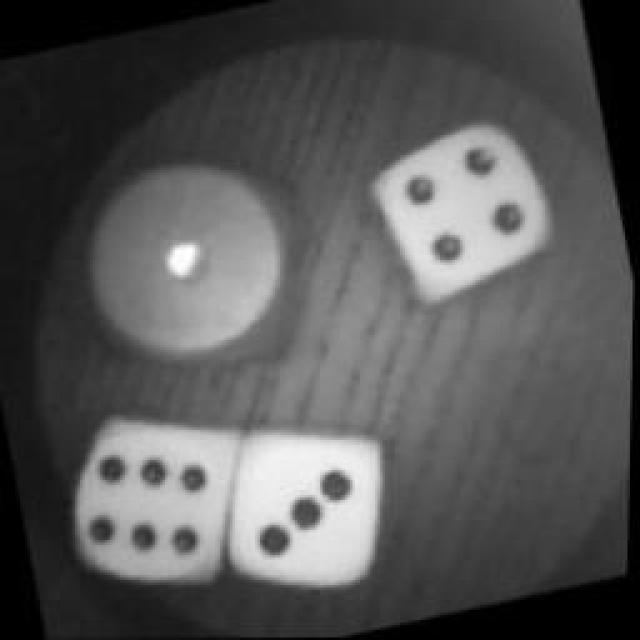dice_1: (60, 134, 332, 404)
dice_3: (216, 410, 409, 615)
dice_4: (355, 96, 575, 316)
dice_6: (53, 402, 255, 612)
